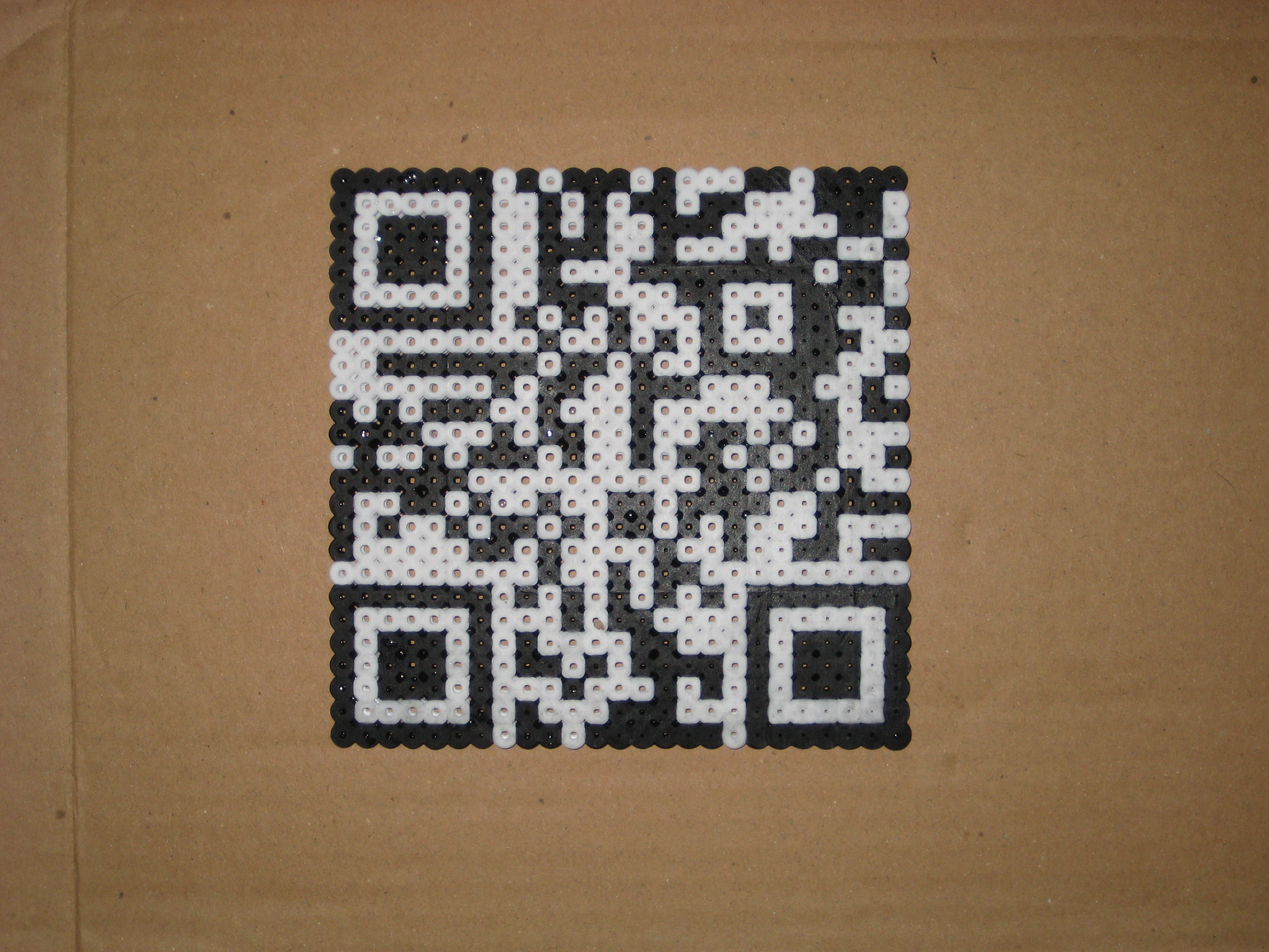QR-CODE: (331, 168, 909, 747)
